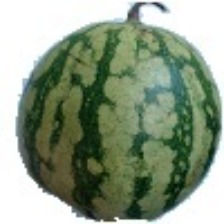watermelon: (39, 30, 207, 224)
